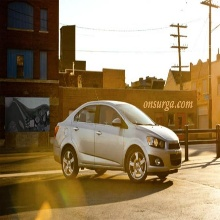no damage: (52, 98, 184, 183)
